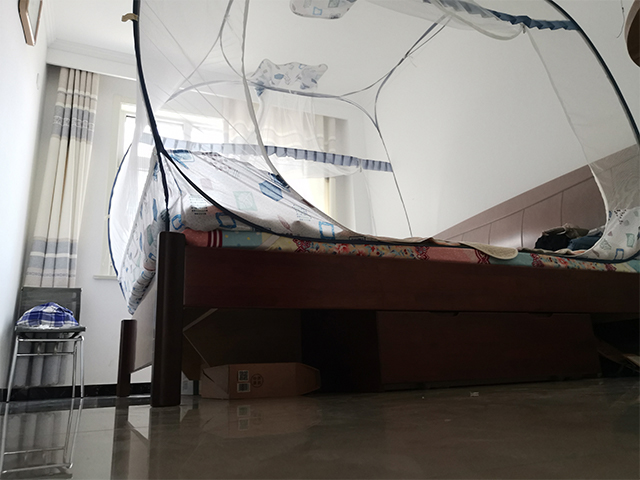bed: (114, 142, 640, 409)
curtain: (17, 61, 99, 391)
stool: (3, 284, 86, 404)
